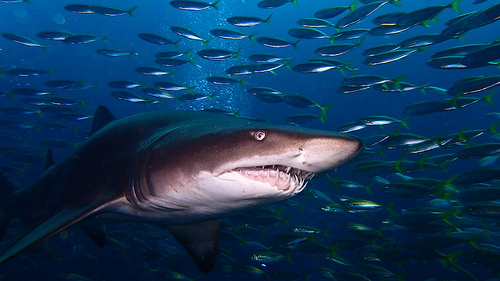shark: (10, 83, 372, 274)
